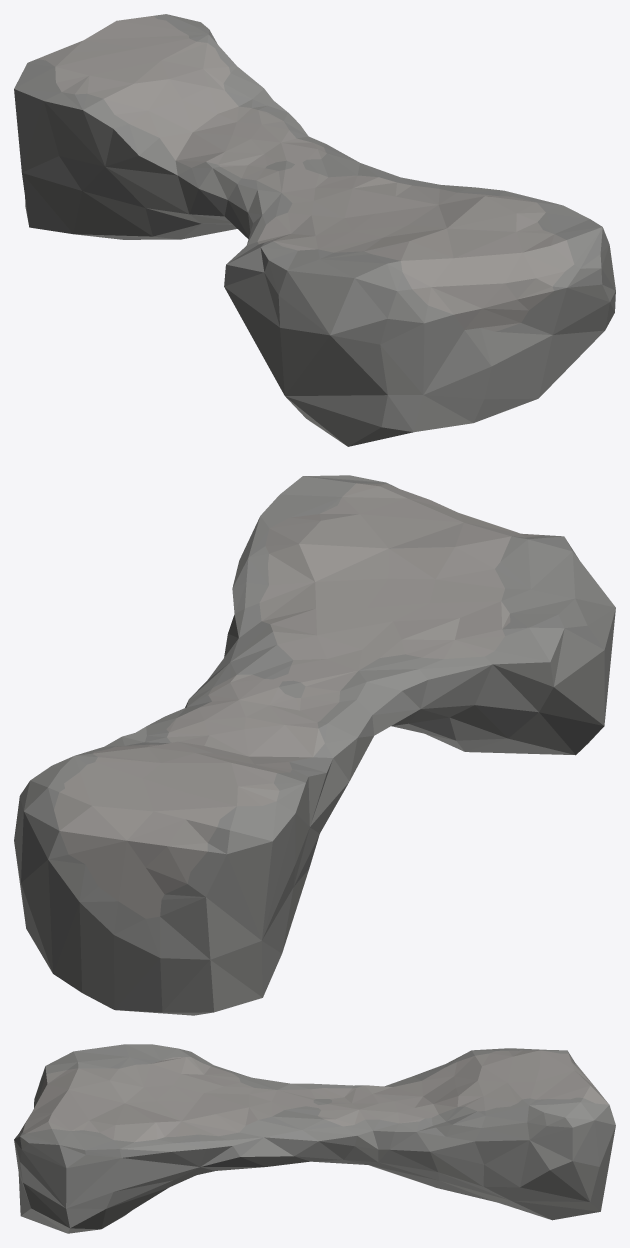
The model's file is Cavern_Floor_Narrow_Bridge_Lrg-02.fbx.
3 views of the same model, one above another, from view 1: azimuth 30°, elevation 25°; view 2: azimuth 150°, elevation 25°; view 3: azimuth 270°, elevation 25° (orthographic). The views are drawn at different scales.
Parts seen in each view (by area): view 1: Cavern_Floor_Narrow_Bridge_Lrg-02; view 2: Cavern_Floor_Narrow_Bridge_Lrg-02; view 3: Cavern_Floor_Narrow_Bridge_Lrg-02.
Part boxes in pixels (bbox=[...]): Cavern_Floor_Narrow_Bridge_Lrg-02: bbox=[14, 14, 615, 446]; Cavern_Floor_Narrow_Bridge_Lrg-02: bbox=[14, 475, 615, 1015]; Cavern_Floor_Narrow_Bridge_Lrg-02: bbox=[14, 1044, 615, 1233].
Bounding box in the file's own units: 992 × 554 × 2055.
1 material, 1 textured.
